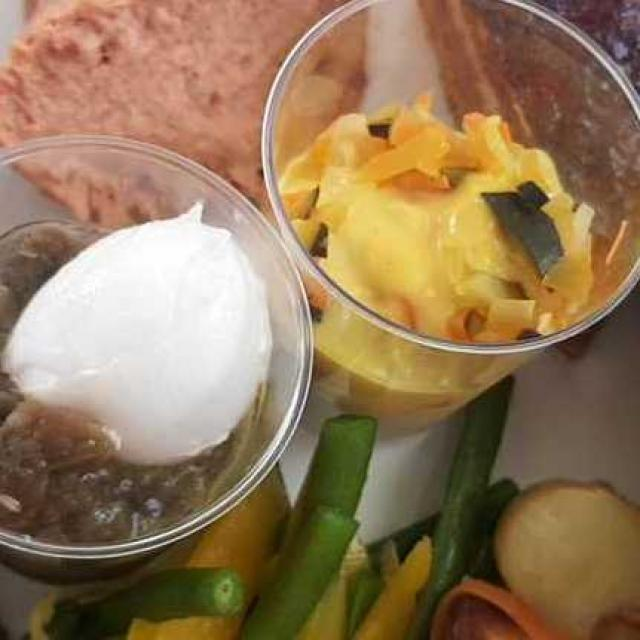eggplant-caviar: (12, 206, 260, 557)
fish: (316, 122, 601, 432)
sauce: (311, 176, 554, 426)
sour-cream: (9, 206, 294, 464)
